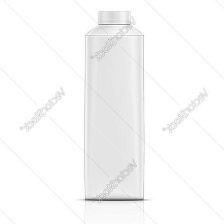carton: (72, 5, 154, 206)
